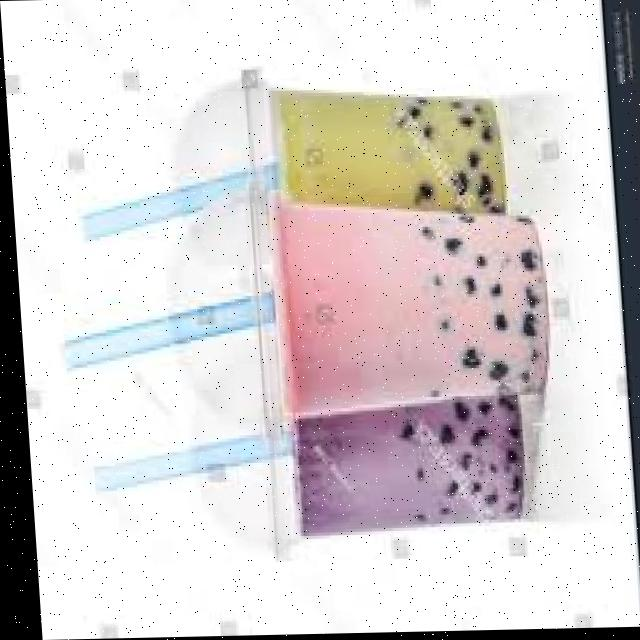cup: (277, 204, 542, 417), (292, 399, 514, 534), (272, 91, 500, 213)
